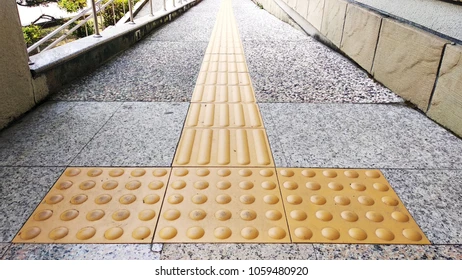piso_tatil: (10, 34, 432, 245)
piso_tatil_alerta: (9, 160, 174, 246), (275, 169, 432, 245), (150, 165, 291, 244)
piso_tatil_direcional: (170, 127, 277, 166), (182, 101, 264, 127), (189, 85, 255, 103), (195, 72, 253, 87), (199, 62, 250, 73), (202, 54, 246, 63), (206, 47, 244, 54), (208, 41, 243, 47), (209, 37, 241, 42)
piso_tatil_direcional_vertical: (168, 125, 275, 164), (180, 99, 262, 125), (187, 83, 253, 101), (193, 70, 251, 85), (197, 60, 248, 71), (200, 52, 244, 61), (204, 45, 242, 52), (206, 39, 241, 45), (207, 35, 239, 40)
